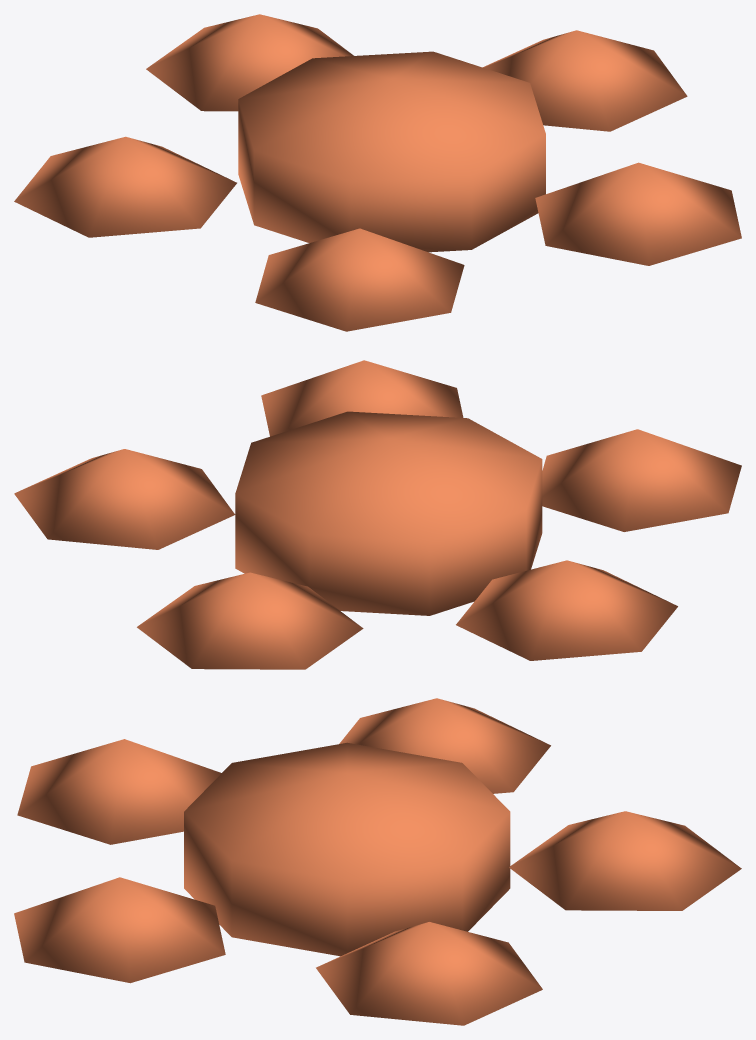
Rendered from xy_beach_starfish.glb.
3 renders of one model, top to bottom at view 1: azimuth 30°, elevation 25°; view 2: azimuth 150°, elevation 25°; view 3: azimuth 270°, elevation 25°, orthographic. The views are drawn at different scales.
Visible parts, largest first — view 1: Starfish; view 2: Starfish; view 3: Starfish.
Part boxes in pixels (<box>): Starfish: <box>14,14,741,331</box>; Starfish: <box>14,360,741,669</box>; Starfish: <box>14,698,741,1025</box>.
Size of the model in its own units: 1.67 by 0.378 by 1.62.
